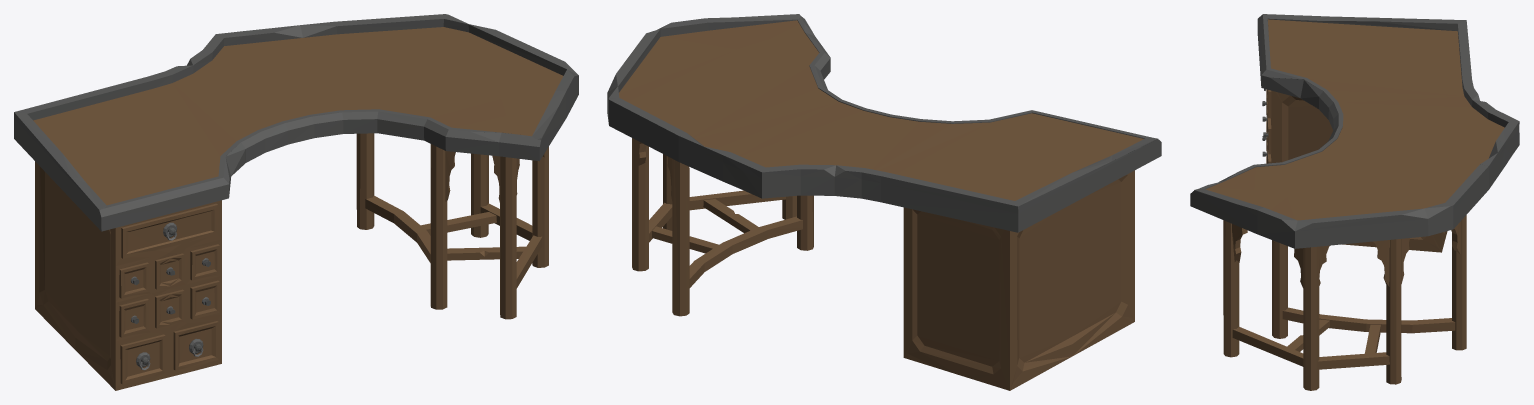
File: Table_001.fbx
3 renders of one model, left to right at view 1: azimuth 30°, elevation 25°; view 2: azimuth 150°, elevation 25°; view 3: azimuth 270°, elevation 25°, orthographic. The views are drawn at different scales.
Parts seen in each view (by area): view 1: Table_001; view 2: Table_001; view 3: Table_001.
Boxes of the visible parts, x1,y1,x2,y2 form: Table_001: (14,14,578,390); Table_001: (607,14,1161,390); Table_001: (1190,14,1519,390).
Bounding box in the file's own units: 2.8 × 1.05 × 1.79.
